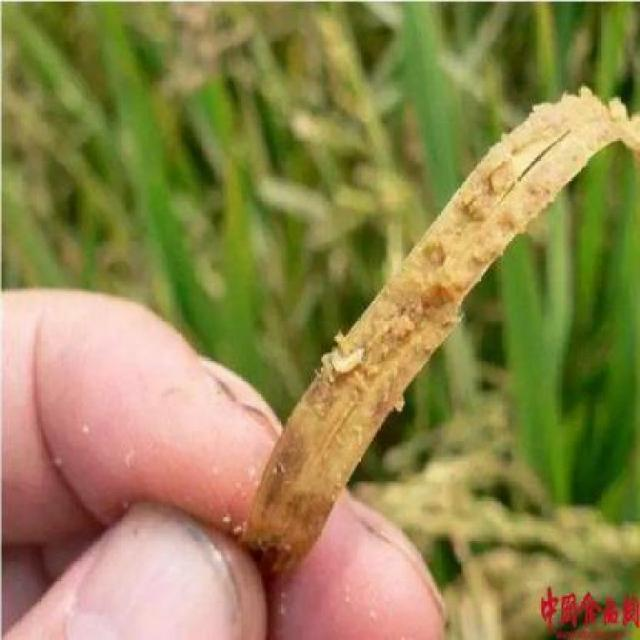whorl-maggot: (324, 342, 368, 378)
